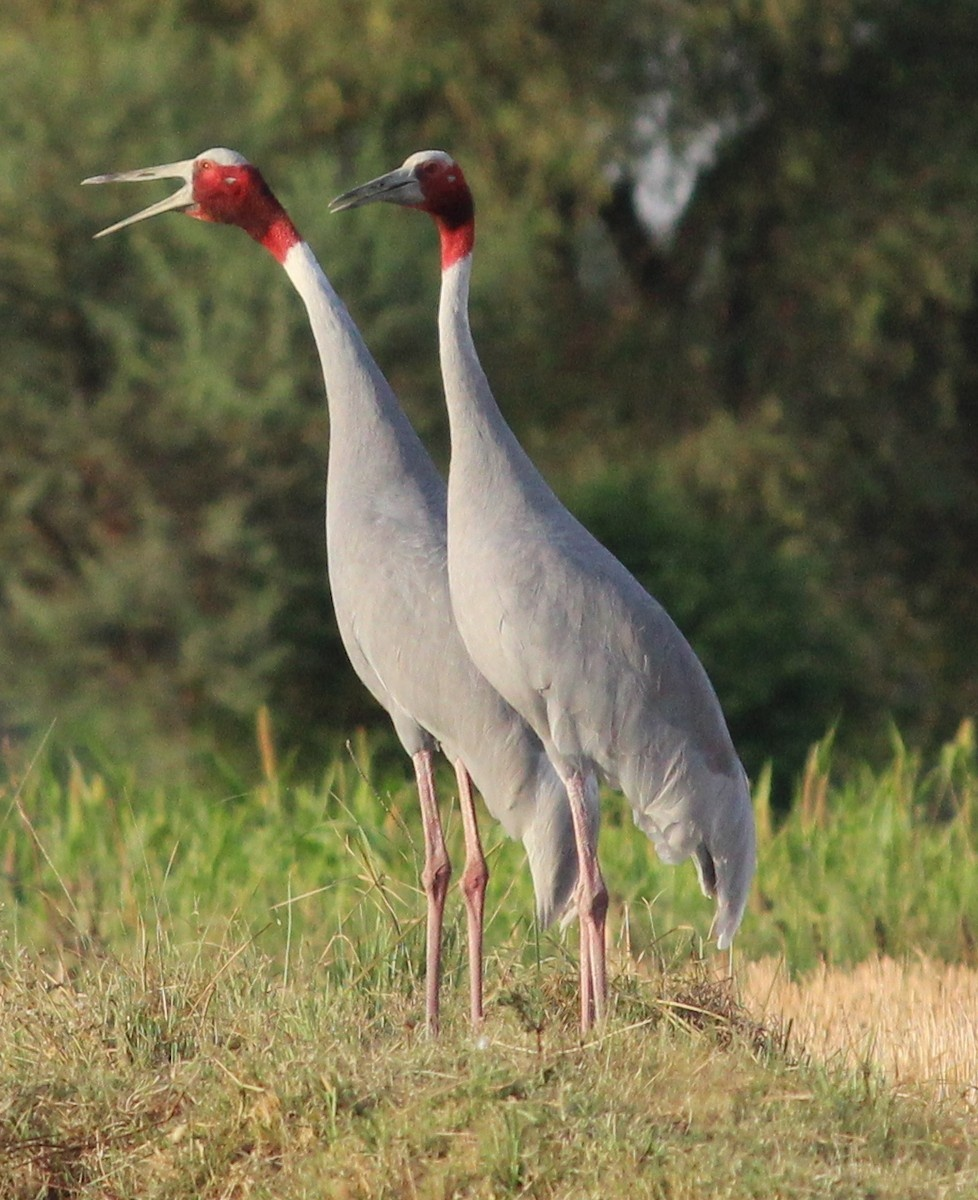crane: (329, 128, 783, 1030), (66, 107, 476, 1032)
